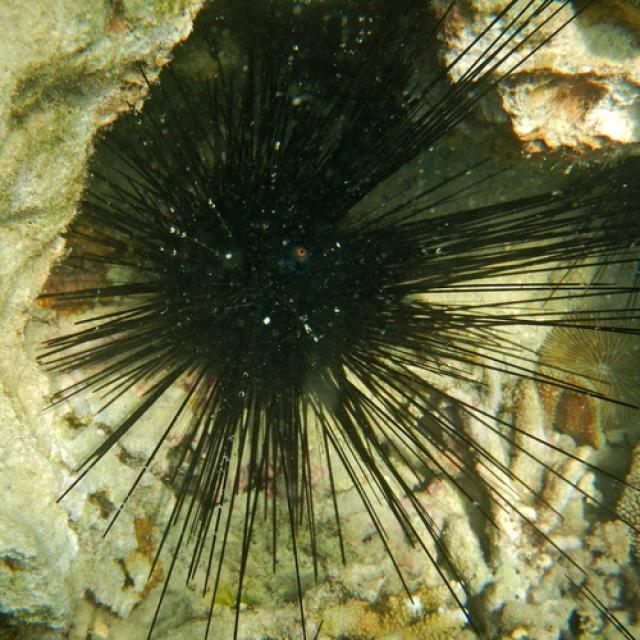Urchin: (37, 1, 640, 638)
